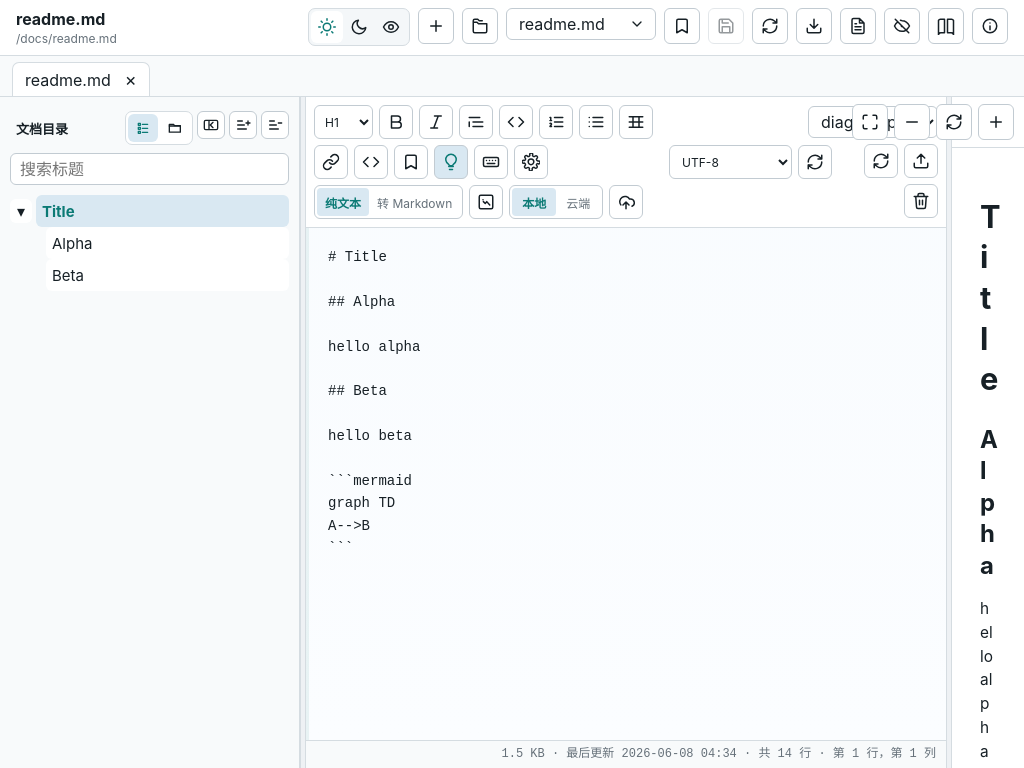
App › Cmd+Alt+0 does not reset zoom but sets normal text heading
Replace the text in the text box with test id "editor" with "## Heading" at (626, 484), box [306,228,946,740]
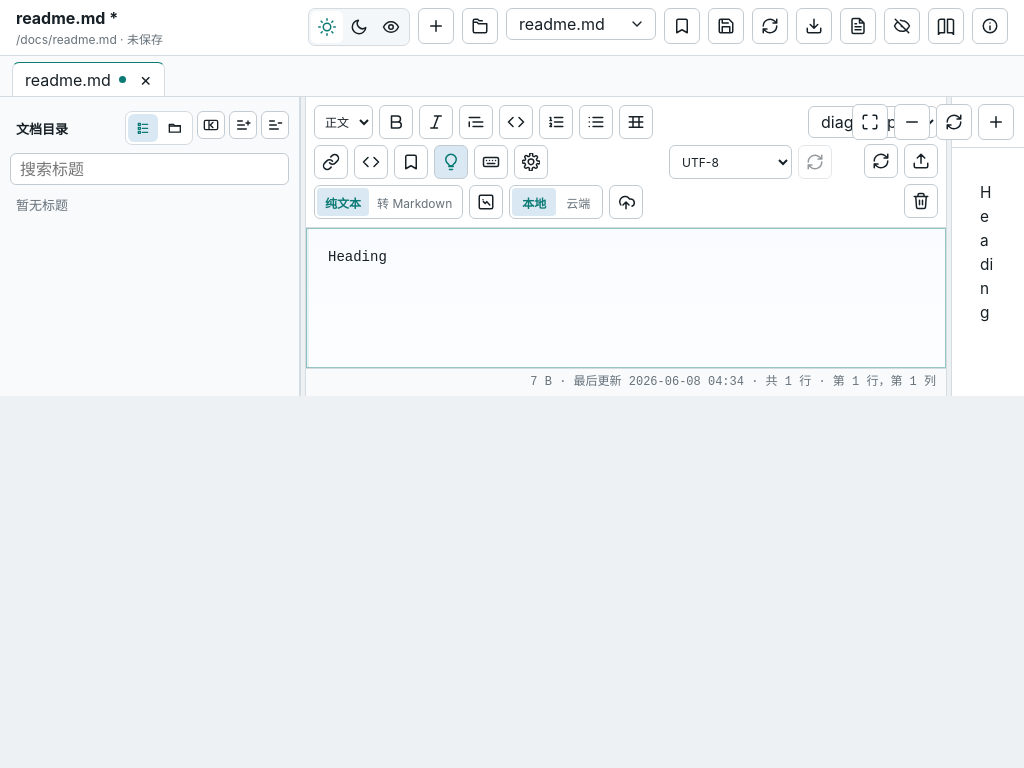
Expected: the text box with test id "editor" holds "Heading", [306,228,946,368]
